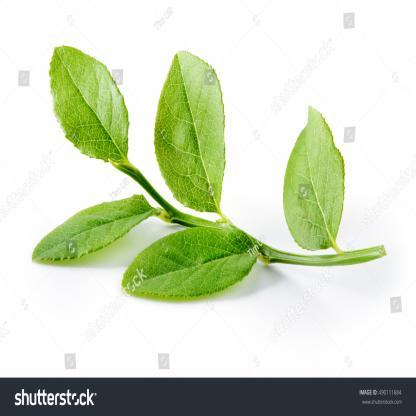Blueberry leaf: (150, 38, 235, 219), (118, 222, 262, 312), (45, 38, 140, 164), (281, 100, 344, 254), (25, 198, 162, 264)
